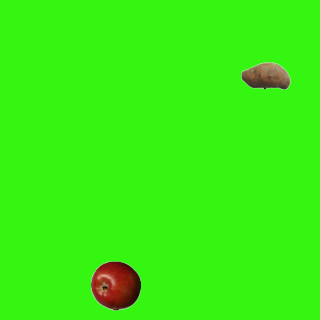Apple Braeburn: (90, 260, 140, 310)
Potato Sweet: (240, 50, 290, 100)
